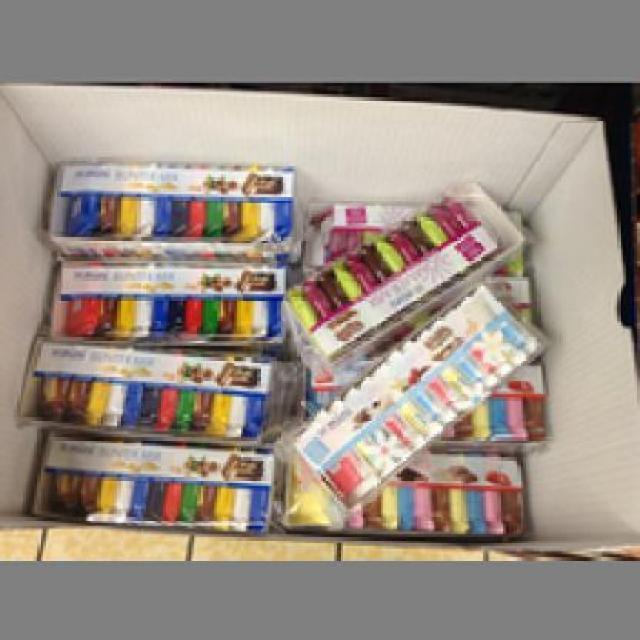Chocolate: (288, 291, 538, 504), (286, 189, 503, 360), (11, 331, 280, 440), (23, 428, 280, 534), (40, 157, 300, 257), (46, 251, 286, 340)
